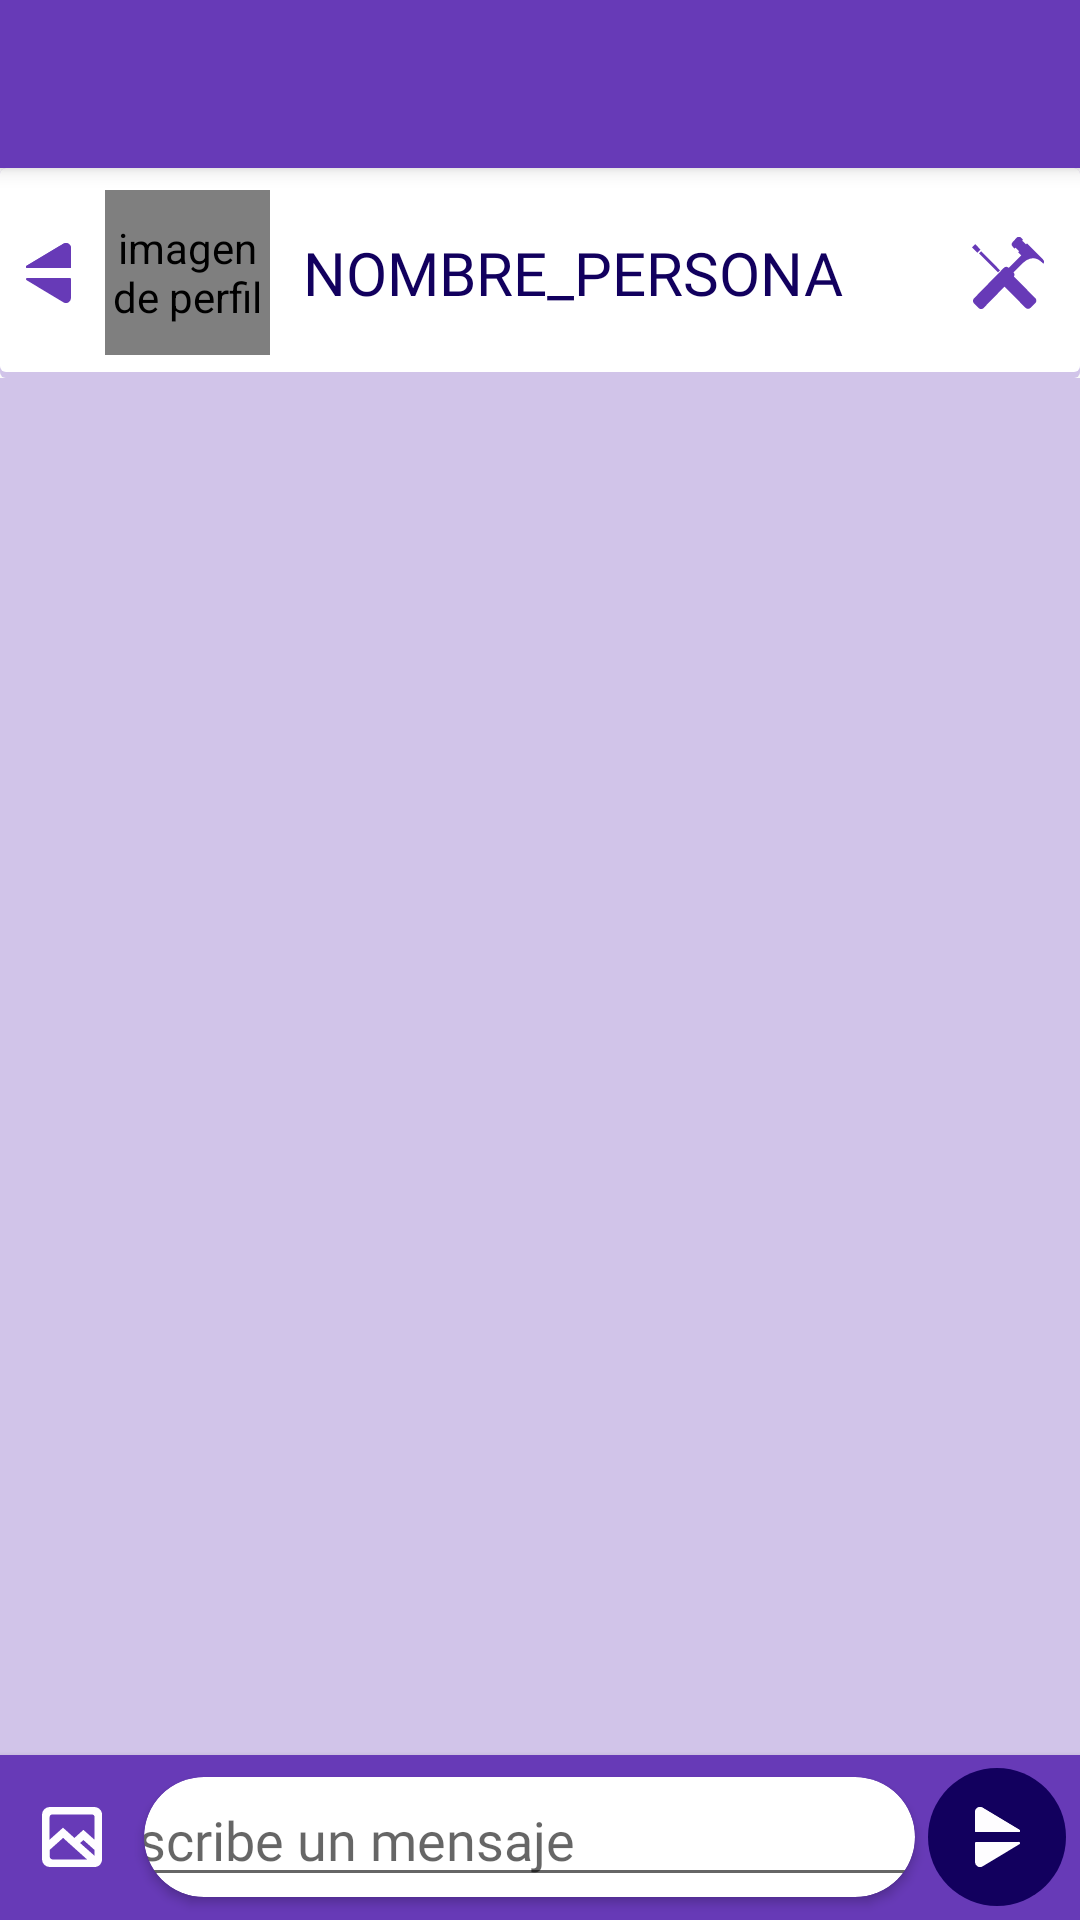

Named icons in this screenshot (1080*1920) and their bounding boxes, (x1, y1, x2, y2):
boton de configuracion: (972, 237, 1044, 309)
boton de volver: (26, 243, 71, 303)
enviar blanco: (928, 1768, 1066, 1906)
